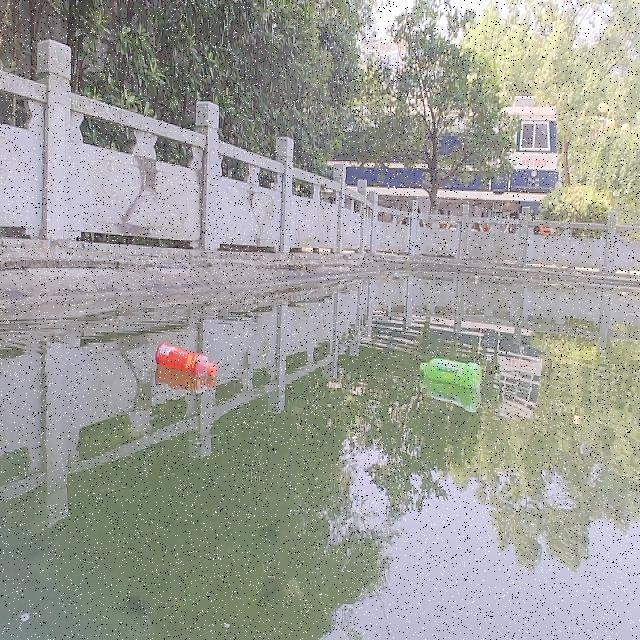bottle: (152, 343, 218, 380), (417, 354, 483, 390)
